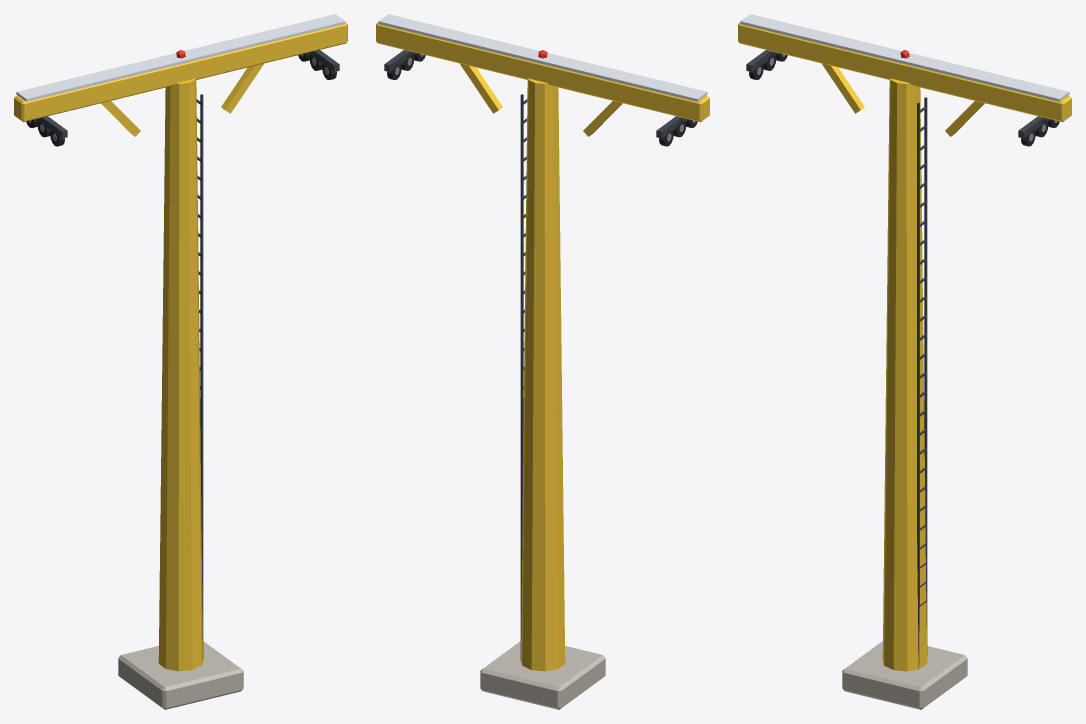
File: lift_tower.obj
3 views of the same model, side by side, from view 1: azimuth 30°, elevation 25°; view 2: azimuth 150°, elevation 25°; view 3: azimuth 330°, elevation 25° (orthographic).
Parts seen in each view (by area): view 1: lift_tower_Main; view 2: lift_tower_Main; view 3: lift_tower_Main.
Boxes of the visible parts, bbox=[...] form: lift_tower_Main: bbox=[14, 14, 347, 709]; lift_tower_Main: bbox=[376, 14, 709, 709]; lift_tower_Main: bbox=[738, 14, 1071, 709].
Bounding box in the file's own units: 18 × 33.45 × 4.5.
Materials: 1 (1 with a texture image).
